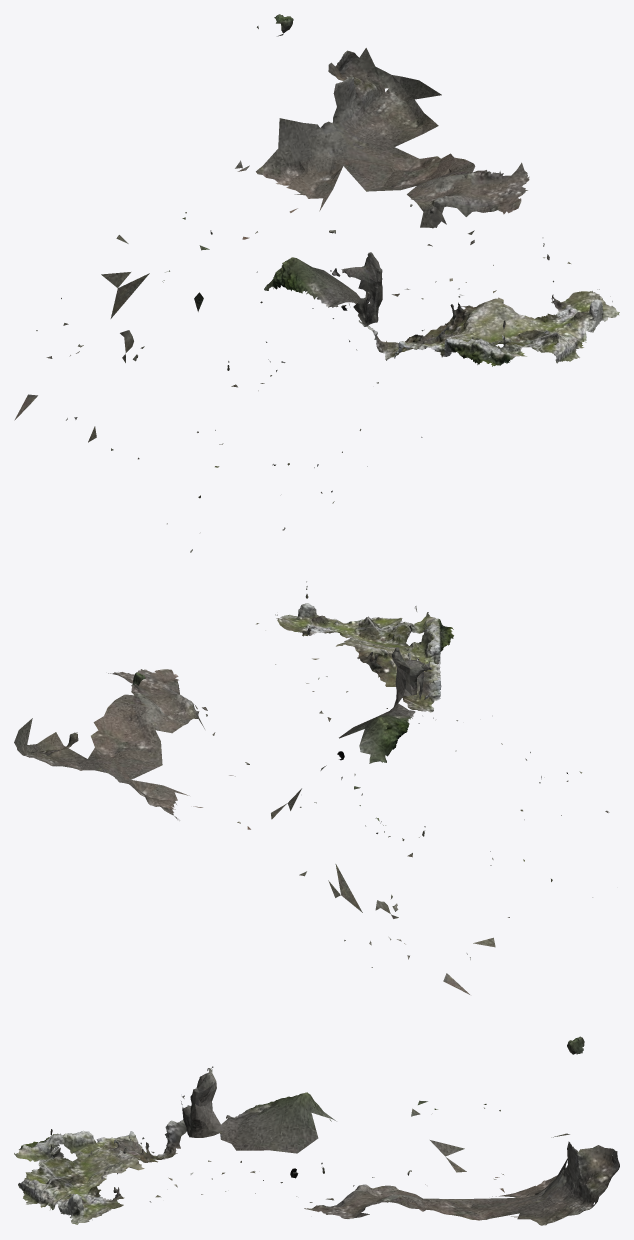
3 views of the same model, one above another, from view 1: azimuth 30°, elevation 25°; view 2: azimuth 150°, elevation 25°; view 3: azimuth 270°, elevation 25° (orthographic). The views are drawn at different scales.
Size of the model in its own units: 31.72 by 20.91 by 36.49.
1 material, 1 textured.
